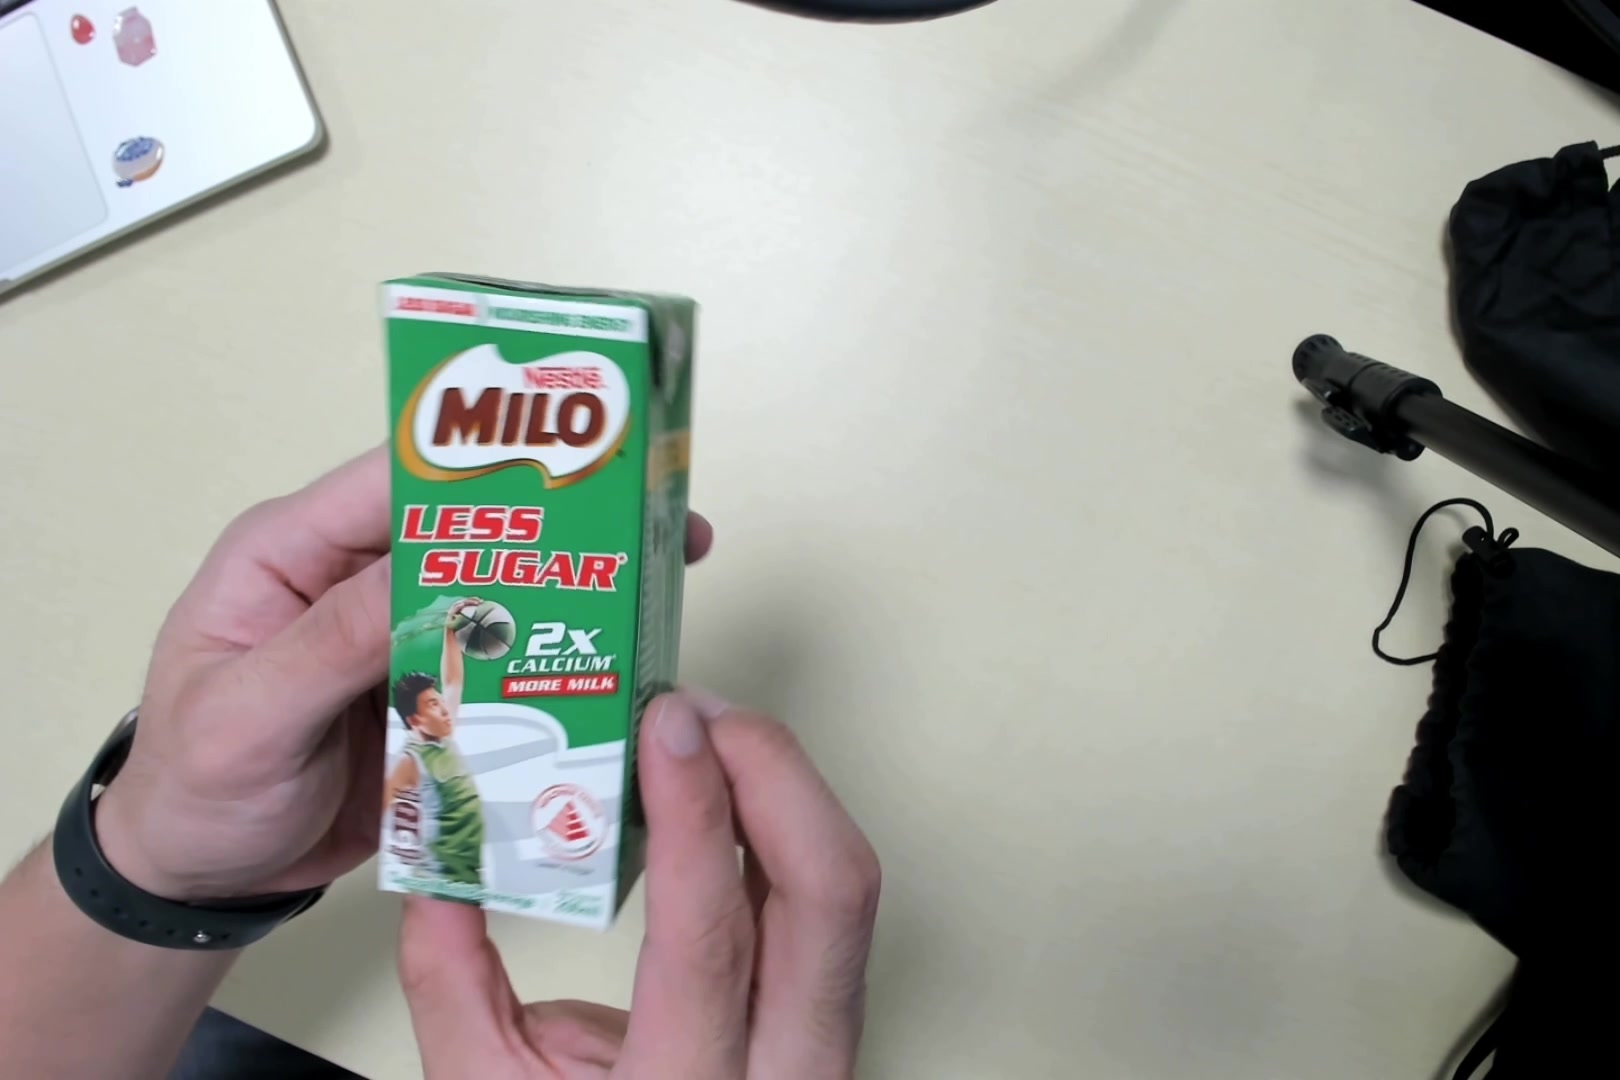SoftDrinksOtherReadyToDrink_100-199g_NonHalal_NonHealthy: (372, 266, 699, 925)
